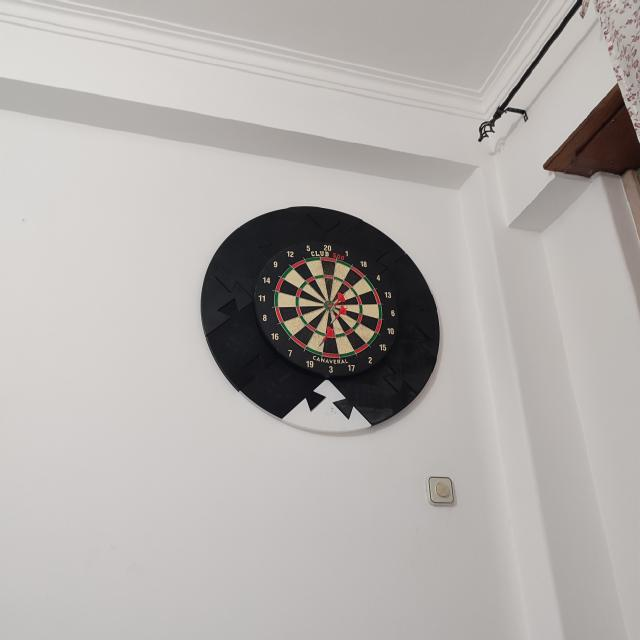dart: (329, 305, 348, 325), (330, 305, 348, 325), (318, 326, 334, 348), (318, 326, 334, 348), (329, 292, 345, 313), (329, 292, 345, 313)
